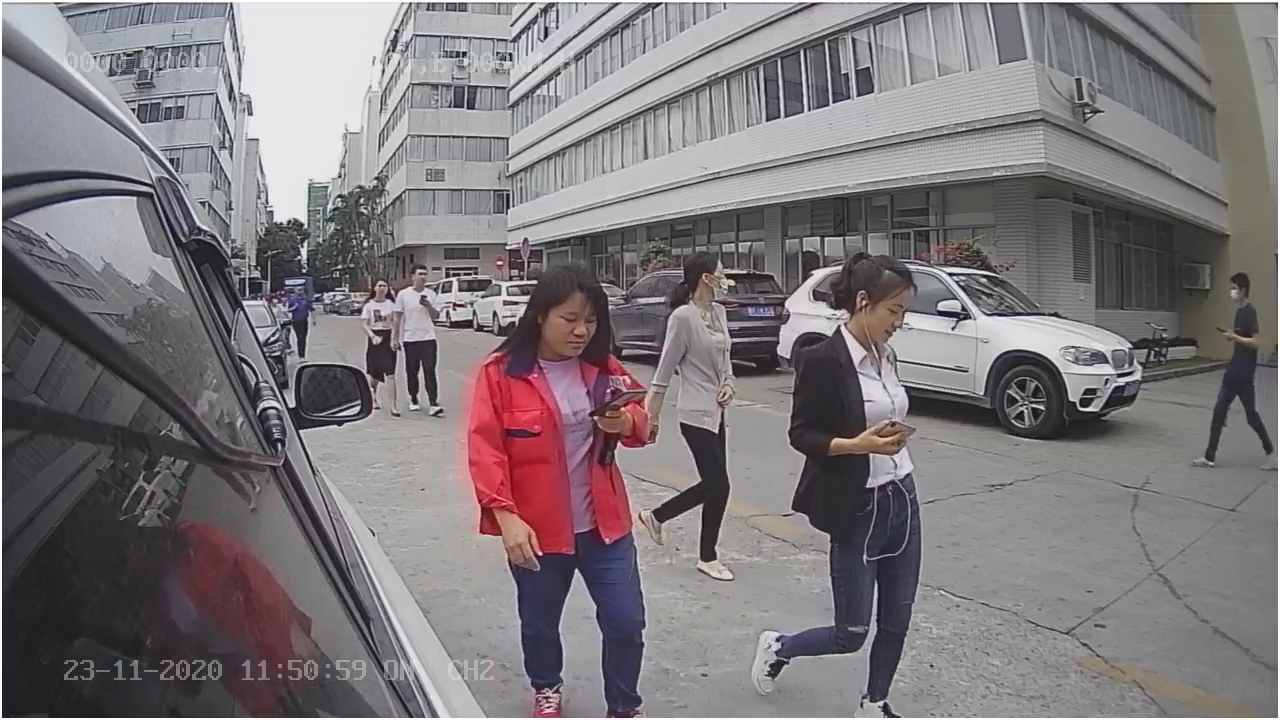person: (751, 244, 926, 716), (1192, 267, 1276, 470), (355, 274, 403, 351)
